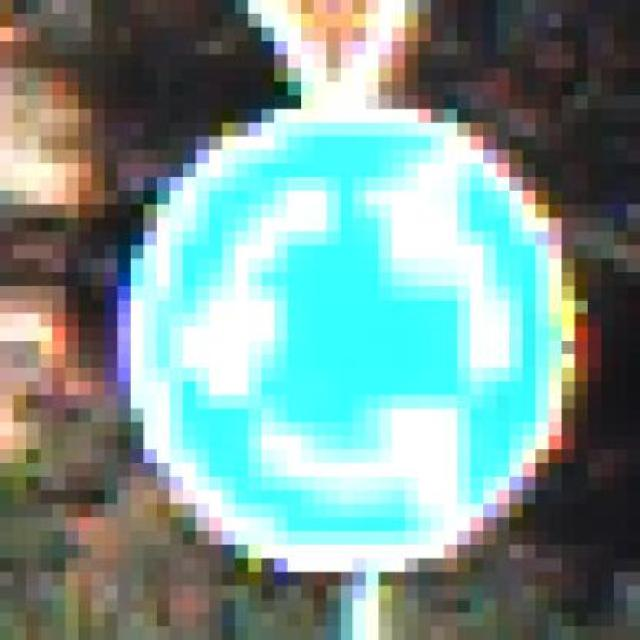Round-About: (52, 68, 614, 600)
